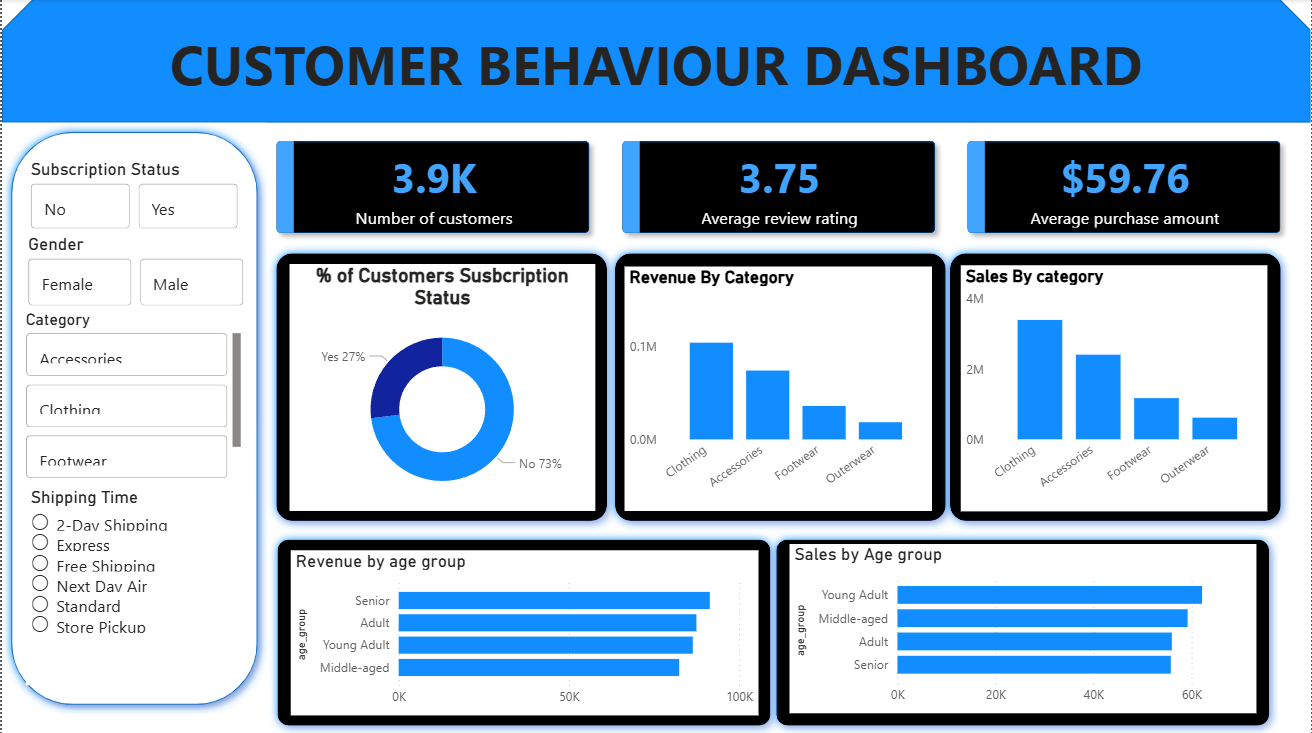

The page's visual inventory and layout, read from the dashboard file:
{"tool":"powerbi","page":{"name":"Page 1","canvas":[1280,720],"ordinal":0},"visuals":[{"type":"cardVisual","fields":{"Data":["public customer.Number of customers","public customer.Average review rating","public customer.Average purchase amount"]},"box":[240.1,109.8,1040.1,148.2],"z":0},{"type":"shape","box":[0,0,1280.3,120.9],"z":1000},{"type":"textbox","box":[0,22,1280.3,98.9],"z":2000},{"type":"shape","box":[259.3,240.1,341.7,279.9],"z":3000},{"type":"donutChart","title":"% of Customers Susbcription Status","fields":{"Category":["public customer.subscription_status"],"Y":["CountNonNull(public customer.customer_id)"]},"box":[281.3,259.3,299.1,241.5],"z":4000},{"type":"shape","box":[590.1,240.1,341.7,279.9],"z":5000},{"type":"shape","box":[918,240.1,341.7,279.9],"z":6000},{"type":"clusteredColumnChart","title":"Revenue By Category","fields":{"Y":["Sum(public customer.purchase_amount)"],"Category":["public customer.category"]},"box":[609.5,261.6,300.6,239.4],"z":7000},{"type":"clusteredColumnChart","title":"Sales By category","fields":{"Y":["Sum(public customer.customer_id)"],"Category":["public customer.category"]},"box":[938.3,259.9,300.3,240.5],"z":8000},{"type":"shape","box":[0,120.6,259.1,578.5],"z":9000},{"type":"advancedSlicerVisual","title":"Subscription Status","fields":{"Values":["public customer.subscription_status"]},"box":[23.3,156.3,212.5,74],"z":10000},{"type":"advancedSlicerVisual","title":"Category","fields":{"Values":["public customer.category"]},"box":[18,305,220.7,172],"z":11000},{"type":"advancedSlicerVisual","title":"Gender","fields":{"Values":["public customer.gender"]},"box":[20.6,230.3,220.7,75.4],"z":12000},{"type":"listSlicer","title":"Shipping Time","fields":{"Values":["public customer.shipping_type"]},"box":[23.3,477,196,194.6],"z":13000},{"type":"shape","box":[748.4,519.5,500.3,200.1],"z":14000},{"type":"shape","box":[260.4,519.5,500.3,200.1],"z":14500},{"type":"clusteredBarChart","title":"Sales by Age group","fields":{"Y":["Sum(public customer.purchase_amount)"],"Category":["public customer.age_group"]},"box":[770.4,533.2,456.5,165.9],"z":16000},{"type":"clusteredBarChart","title":"Revenue by age group","fields":{"Y":["Sum(public customer.purchase_frequency_days)"],"Category":["public customer.age_group"]},"box":[282.4,538.7,457.8,161.7],"z":16500}]}

Visuals, with their boxes in screenshot pixels (x1, y1, x2, y2), scaled from the page's 1280x720 canvas onto the 1312x733 screenshot:
cardVisual - public customer.Number of customers x public customer.Average review rating: [left=246, top=112, right=1311, bottom=263]
shape: [left=0, top=0, right=1311, bottom=123]
textbox: [left=0, top=22, right=1311, bottom=123]
shape: [left=266, top=244, right=616, bottom=529]
"% of Customers Susbcription Status" donutChart: [left=288, top=264, right=595, bottom=510]
shape: [left=605, top=244, right=955, bottom=529]
shape: [left=941, top=244, right=1291, bottom=529]
"Revenue By Category" clusteredColumnChart: [left=625, top=266, right=933, bottom=510]
"Sales By category" clusteredColumnChart: [left=962, top=265, right=1270, bottom=509]
shape: [left=0, top=123, right=266, bottom=712]
"Subscription Status" advancedSlicerVisual: [left=24, top=159, right=242, bottom=234]
"Category" advancedSlicerVisual: [left=18, top=311, right=245, bottom=486]
"Gender" advancedSlicerVisual: [left=21, top=234, right=247, bottom=311]
"Shipping Time" listSlicer: [left=24, top=486, right=225, bottom=684]
shape: [left=767, top=529, right=1280, bottom=732]
shape: [left=267, top=529, right=780, bottom=732]
"Sales by Age group" clusteredBarChart: [left=790, top=543, right=1258, bottom=712]
"Revenue by age group" clusteredBarChart: [left=289, top=548, right=759, bottom=713]
